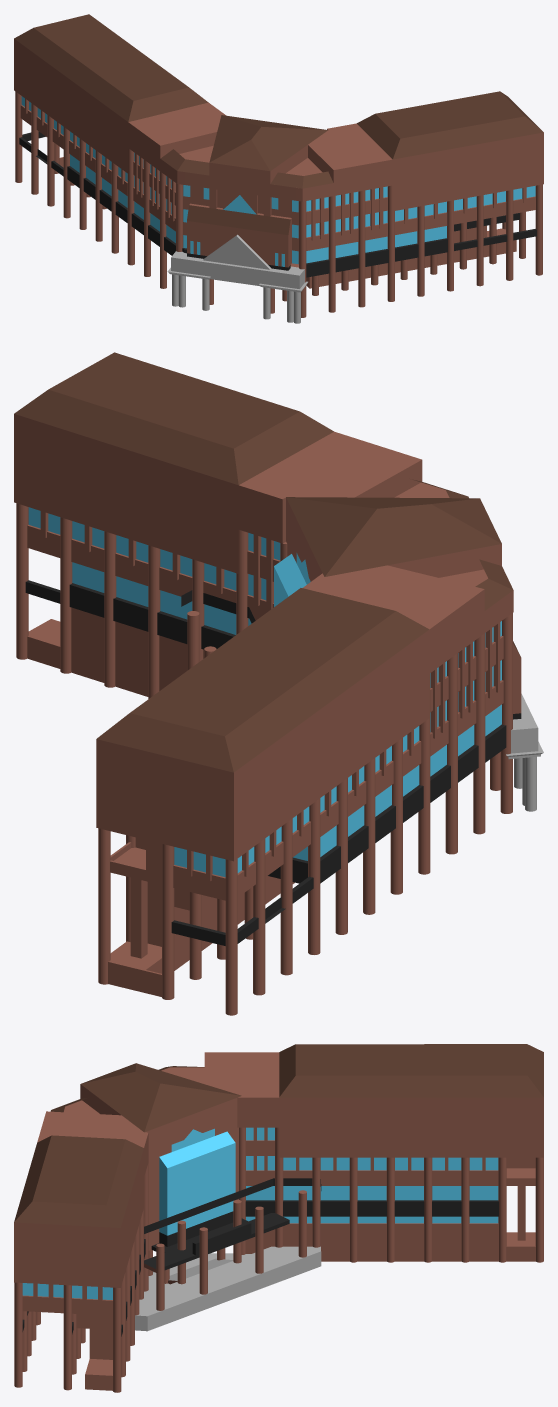
File: BokJi.glb
3 views of the same model, one above another, from view 1: azimuth 30°, elevation 25°; view 2: azimuth 150°, elevation 25°; view 3: azimuth 270°, elevation 25° (orthographic). The views are drawn at different scales.
Parts seen in each view (by area): view 1: Right, Roof, Left, Middle, Window, Bright, Dark; view 2: Left, Roof, Right, Window, Dark, Middle, Bright; view 3: Left, Roof, Right, Window, Middle, Dark, Bright.
Part boxes in pixels (x1,y1,x2,y2): Right: (282, 123, 543, 317); Roof: (14, 14, 543, 234); Left: (14, 39, 225, 288); Middle: (160, 145, 333, 313); Window: (21, 96, 535, 266); Bright: (167, 234, 307, 323); Dark: (19, 131, 536, 277); Left: (96, 565, 512, 1015); Roof: (14, 352, 520, 772); Right: (14, 414, 422, 698); Window: (28, 507, 501, 877); Dark: (25, 580, 521, 945); Middle: (187, 482, 521, 790); Bright: (506, 693, 543, 811); Left: (204, 1052, 543, 1262); Roof: (14, 1044, 543, 1227); Right: (14, 1111, 152, 1392); Window: (22, 1127, 498, 1299); Middle: (64, 1067, 306, 1310); Dark: (22, 1178, 498, 1336); Bright: (135, 1246, 321, 1331).
Bounding box in the file's own units: 52.52 × 24 × 64.05.
